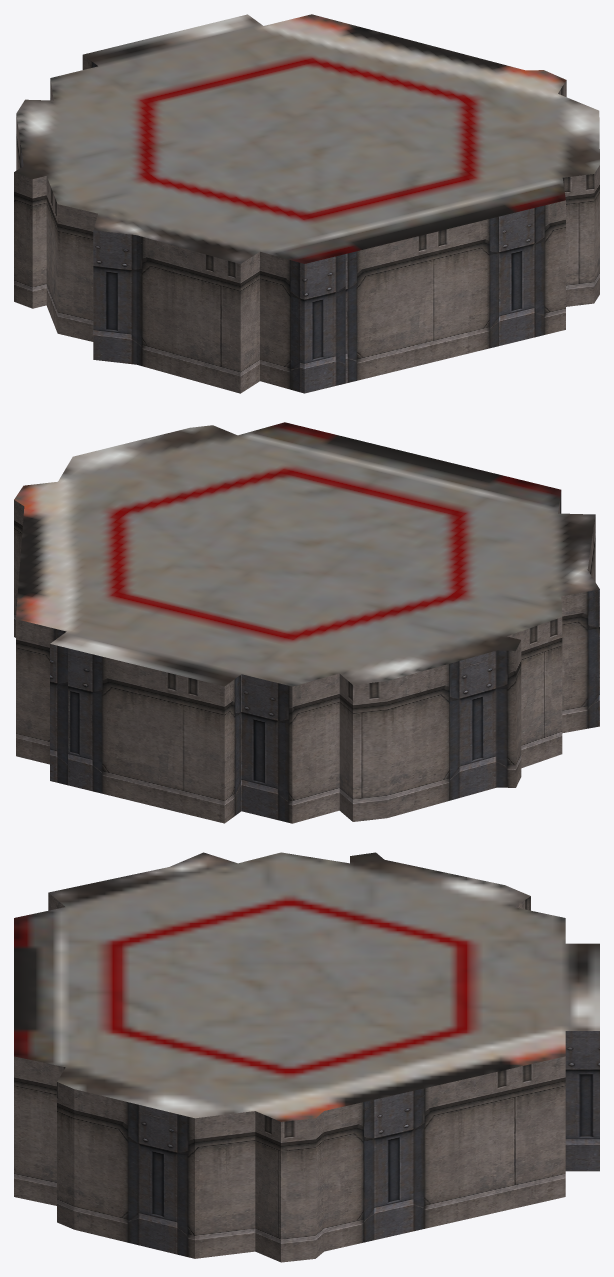
Rendered from bsealed_light_53.glb.
The picture shows the model from 3 angles, top to bottom: view 1: azimuth 30°, elevation 25°; view 2: azimuth 150°, elevation 25°; view 3: azimuth 270°, elevation 25°; orthographic projection. The views are drawn at different scales.
Parts seen in each view (by area): view 1: buildings/saxarba/bsealed_light/bsealed_light_53; view 2: buildings/saxarba/bsealed_light/bsealed_light_53; view 3: buildings/saxarba/bsealed_light/bsealed_light_53.
Part boxes in pixels (x1=…): buildings/saxarba/bsealed_light/bsealed_light_53: x1=14, y1=14, x2=599, y2=393; buildings/saxarba/bsealed_light/bsealed_light_53: x1=14, y1=422, x2=599, y2=823; buildings/saxarba/bsealed_light/bsealed_light_53: x1=14, y1=852, x2=599, y2=1262.
Bounding box in the file's own units: 74 × 18 × 68.
